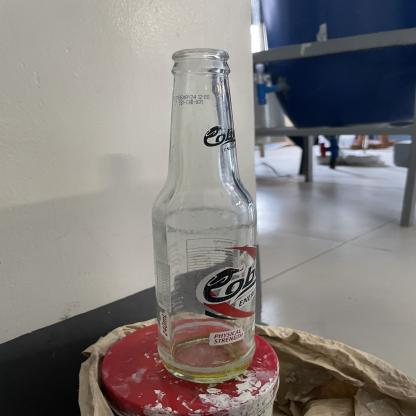Can: (145, 47, 264, 383)
